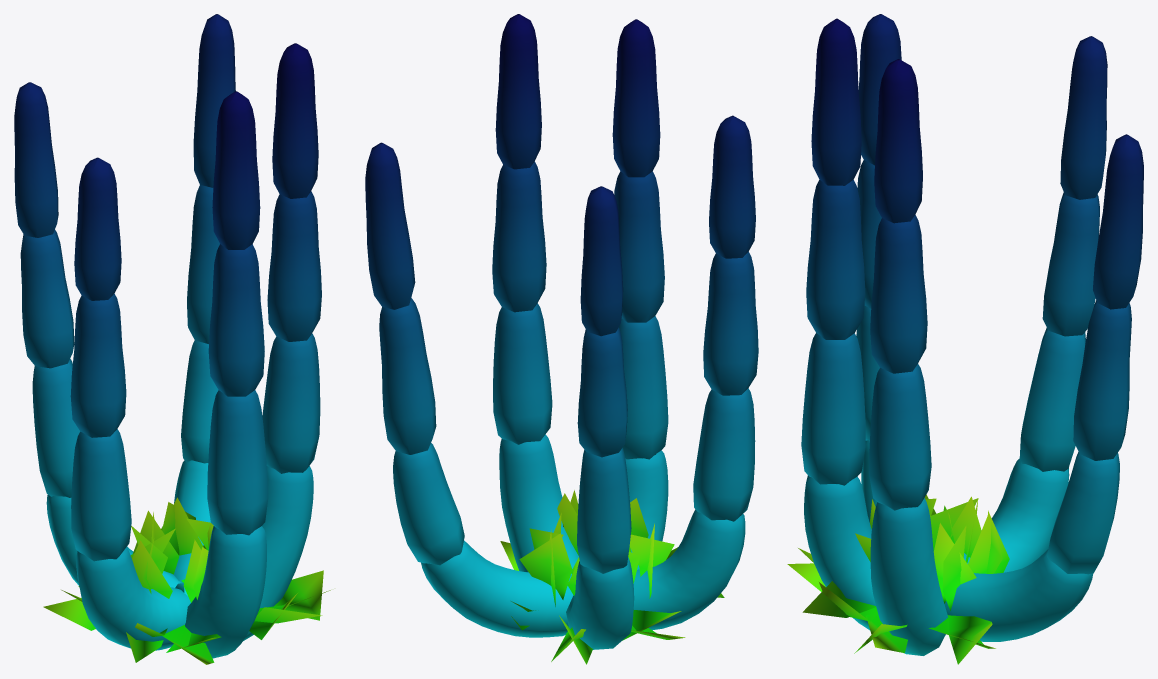
The model's file is Piko4.fbx.
3 views of the same model, side by side, from view 1: azimuth 30°, elevation 25°; view 2: azimuth 150°, elevation 25°; view 3: azimuth 270°, elevation 25° (orthographic). The views are drawn at different scales.
Parts seen in each view (by area): view 1: Piko4_LOD0; view 2: Piko4_LOD0; view 3: Piko4_LOD0.
Part boxes in pixels (box(x1,y1,x2,y2)): Piko4_LOD0: box(14, 14, 330, 664); Piko4_LOD0: box(365, 14, 758, 664); Piko4_LOD0: box(787, 14, 1143, 664).
Size of what is drawn, in the model's own units: 98.74 by 204 by 106.
